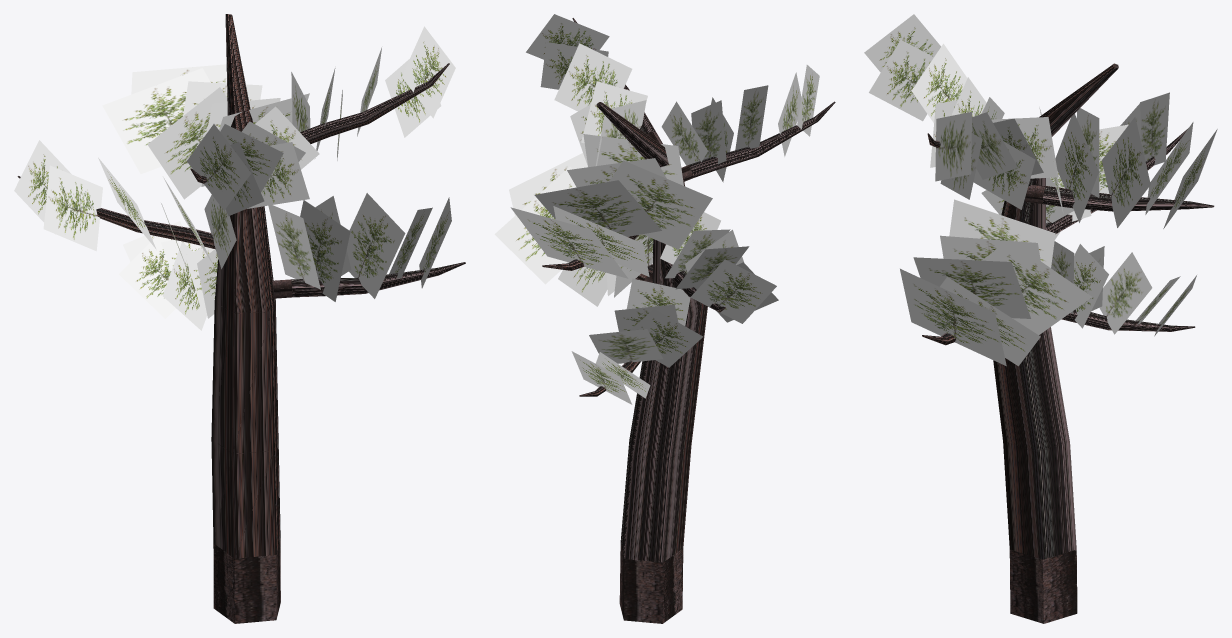
File: tree.002.fbx
3 renders of one model, left to right at view 1: azimuth 30°, elevation 25°; view 2: azimuth 150°, elevation 25°; view 3: azimuth 270°, elevation 25°, orthographic. The views are drawn at different scales.
Visible parts, largest first — view 1: pPlane578; view 2: pPlane578; view 3: pPlane578.
Part boxes in pixels (<box>): pPlane578: <box>14,14,465,623</box>; pPlane578: <box>494,14,835,623</box>; pPlane578: <box>864,14,1217,623</box>.
Size of the model in its own units: 11.54 by 17.63 by 10.04.
